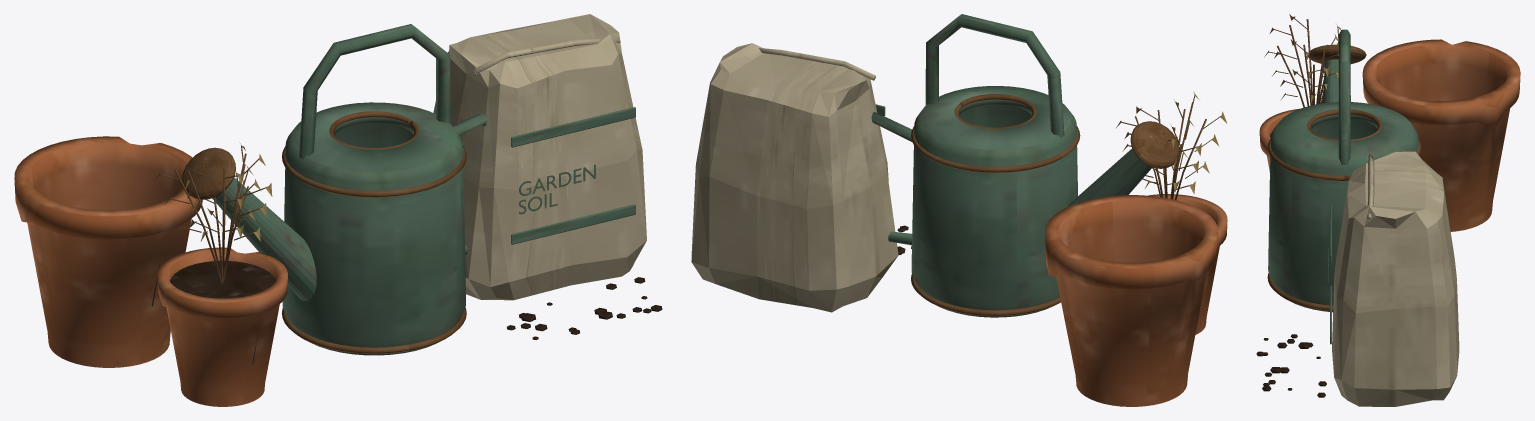
File: by_garden_cluster.glb
3 views of the same model, side by side, from view 1: azimuth 30°, elevation 25°; view 2: azimuth 150°, elevation 25°; view 3: azimuth 270°, elevation 25° (orthographic). The views are drawn at different scales.
Visible parts, largest first — view 1: by_garden_cluster; view 2: by_garden_cluster; view 3: by_garden_cluster.
Part boxes in pixels (left/top/right/bottom): by_garden_cluster: left=14, top=14, right=662, bottom=406; by_garden_cluster: left=691, top=14, right=1227, bottom=406; by_garden_cluster: left=1256, top=14, right=1520, bottom=406.
Size of the model in its own units: 1.07 by 0.5472 by 0.5178.
1 material, 1 textured.
